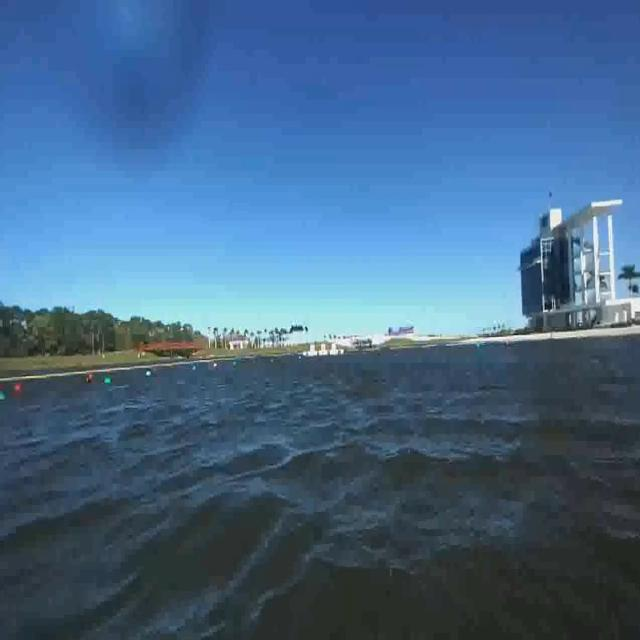green-buoy: (0, 391, 8, 401), (105, 377, 112, 387)
red-buoy: (13, 384, 22, 390)
